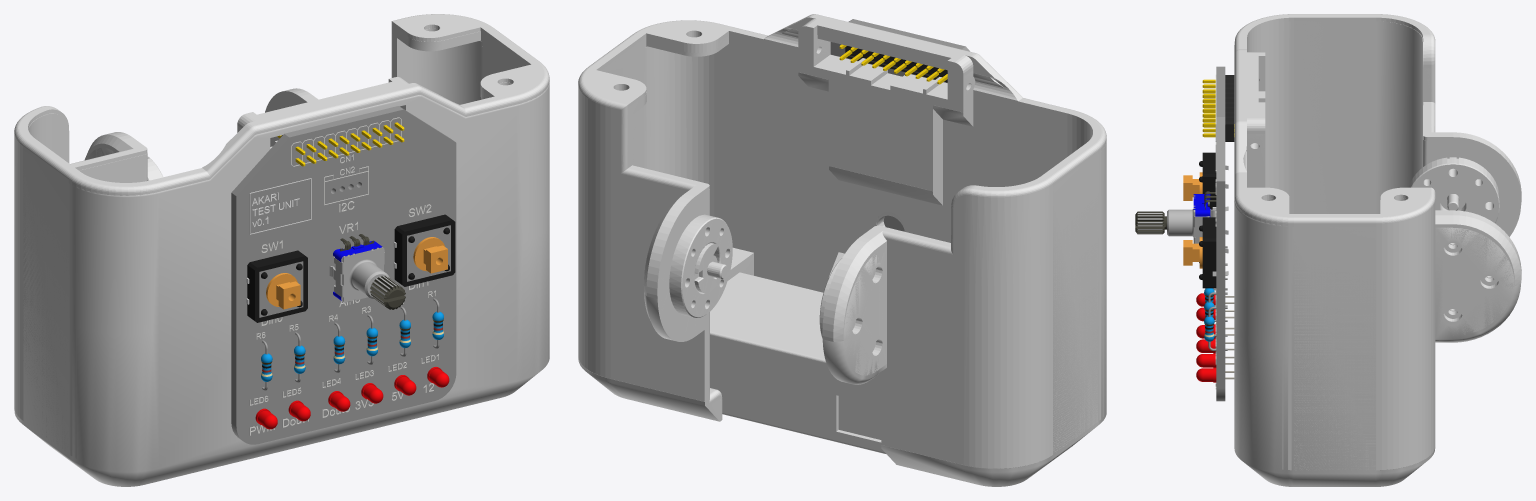
The model's file is akariheadros.fbx.
The picture shows the model from 3 angles, left to right: view 1: azimuth 30°, elevation 25°; view 2: azimuth 150°, elevation 25°; view 3: azimuth 270°, elevation 25°; orthographic projection. The views are drawn at different scales.
Visible parts, largest first — view 1: AKARI_Head, Body1 (×5), AKARI-HEAD, Body7 (×2), Body6 (×2); view 2: AKARI-HEAD, AKARI_Head, Body1 (×3); view 3: AKARI_Head, AKARI-HEAD, Body1 (×6), Body7 (×2).
Part boxes in pixels (x1,y1,x2,y2): AKARI_Head: (14,26,549,486); Body1 (×5): (231,106,456,444); AKARI-HEAD: (14,14,549,458); Body7 (×2): (266,237,447,309); Body6 (×2): (259,225,450,317); AKARI-HEAD: (578,14,1106,468); AKARI_Head: (578,29,1106,486); Body1 (×3): (830,19,969,231); AKARI_Head: (1234,21,1520,486); AKARI-HEAD: (1234,14,1521,470); Body1 (×6): (1135,66,1234,401); Body7 (×2): (1183,172,1202,268).
Bounding box in the file's own units: 107 × 74.85 × 84.63.
